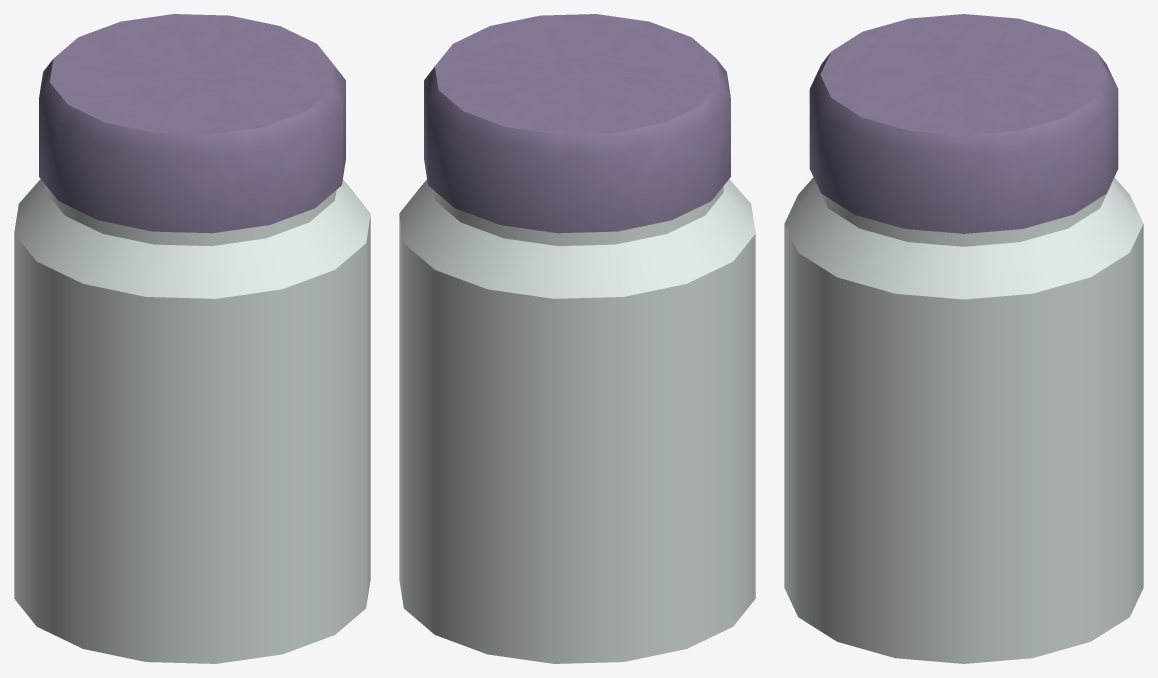
The model's file is SM_Jar_M_Plum.fbx.
The picture shows the model from 3 angles, left to right: view 1: azimuth 30°, elevation 25°; view 2: azimuth 150°, elevation 25°; view 3: azimuth 270°, elevation 25°; orthographic projection.
Parts seen in each view (by area): view 1: SM_Jar_M_Plum; view 2: SM_Jar_M_Plum; view 3: SM_Jar_M_Plum.
Boxes of the visible parts, <box> form: SM_Jar_M_Plum: <box>14,14,370,663</box>; SM_Jar_M_Plum: <box>399,14,755,663</box>; SM_Jar_M_Plum: <box>784,14,1143,663</box>.
Bounding box in the file's own units: 0.09 × 0.142 × 0.09.
3 materials, 3 textured.
